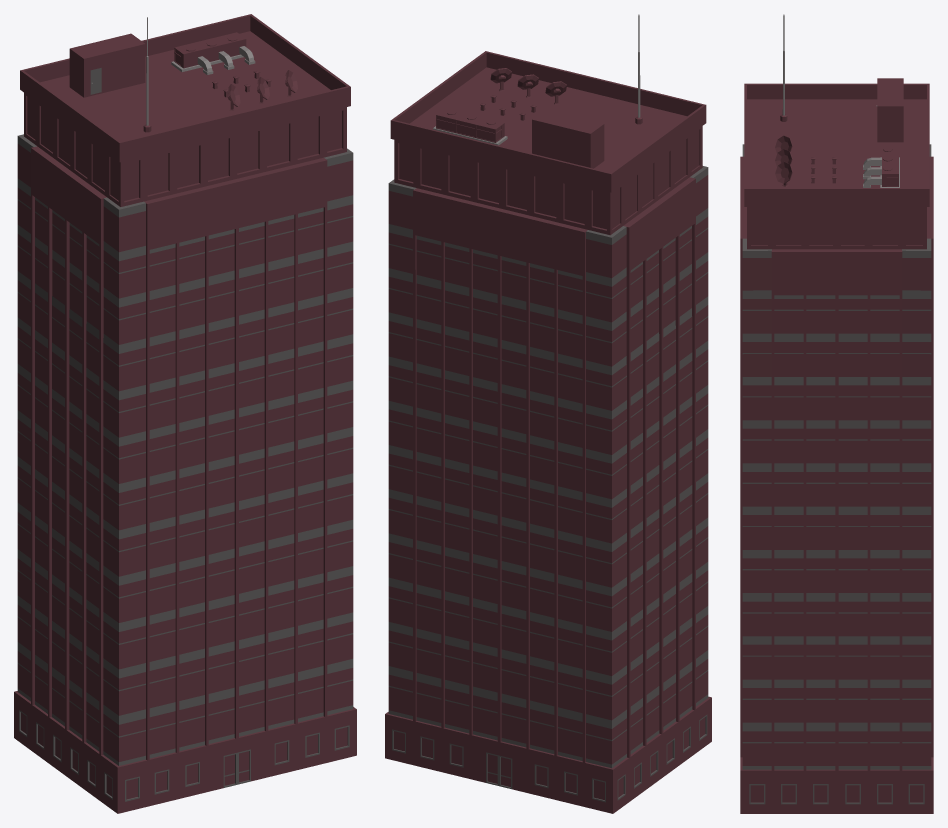
The model's file is building-office-tall.fbx.
The picture shows the model from 3 angles, left to right: view 1: azimuth 30°, elevation 25°; view 2: azimuth 150°, elevation 25°; view 3: azimuth 270°, elevation 25°; orthographic projection. The views are drawn at different scales.
Parts seen in each view (by area): view 1: building-office-tall; view 2: building-office-tall; view 3: building-office-tall.
Part boxes in pixels (x1,y1,x2,y2): building-office-tall: (14, 14, 356, 813); building-office-tall: (385, 14, 711, 813); building-office-tall: (740, 14, 933, 813).
Bounding box in the file's own units: 19.43 × 59.58 × 14.6.
